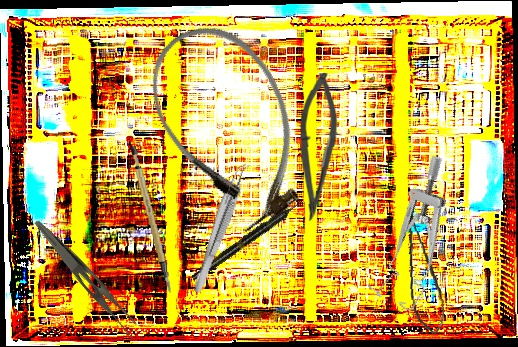Cannula: (129, 4, 330, 246)
Dressing Forceps: (21, 218, 149, 342)
Handpiece: (189, 197, 306, 283)
Micro Scissor: (402, 204, 448, 338), (298, 72, 339, 222)
Scalpel Handle: (128, 143, 172, 297)
Speculum: (353, 152, 489, 317)
Tissue Forceps: (191, 160, 252, 296)
